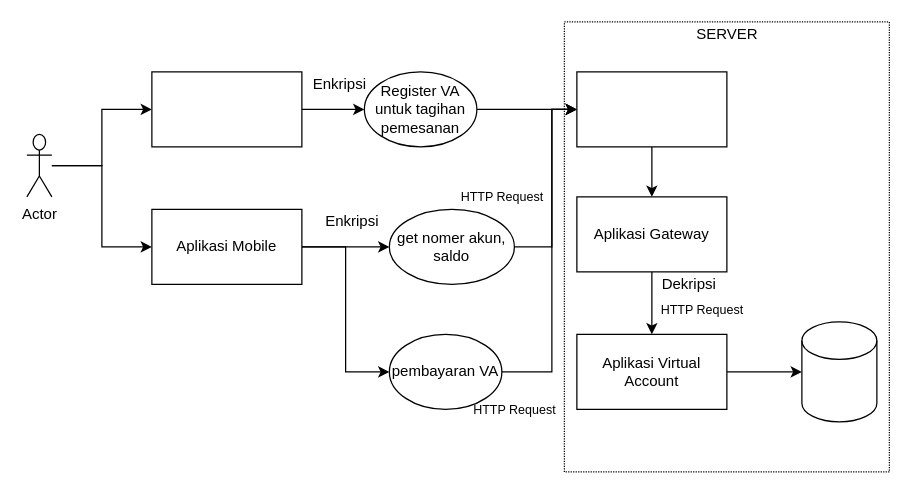
This 911x494 diagram has some shape labels left out. Here are the shapes that lost their labels. From the top down, the centre of each, then its label:
(x=226, y=109): Aplikasi Merchant
(x=651, y=109): Reverse proxy port 8081
(x=839, y=371): Database VA
